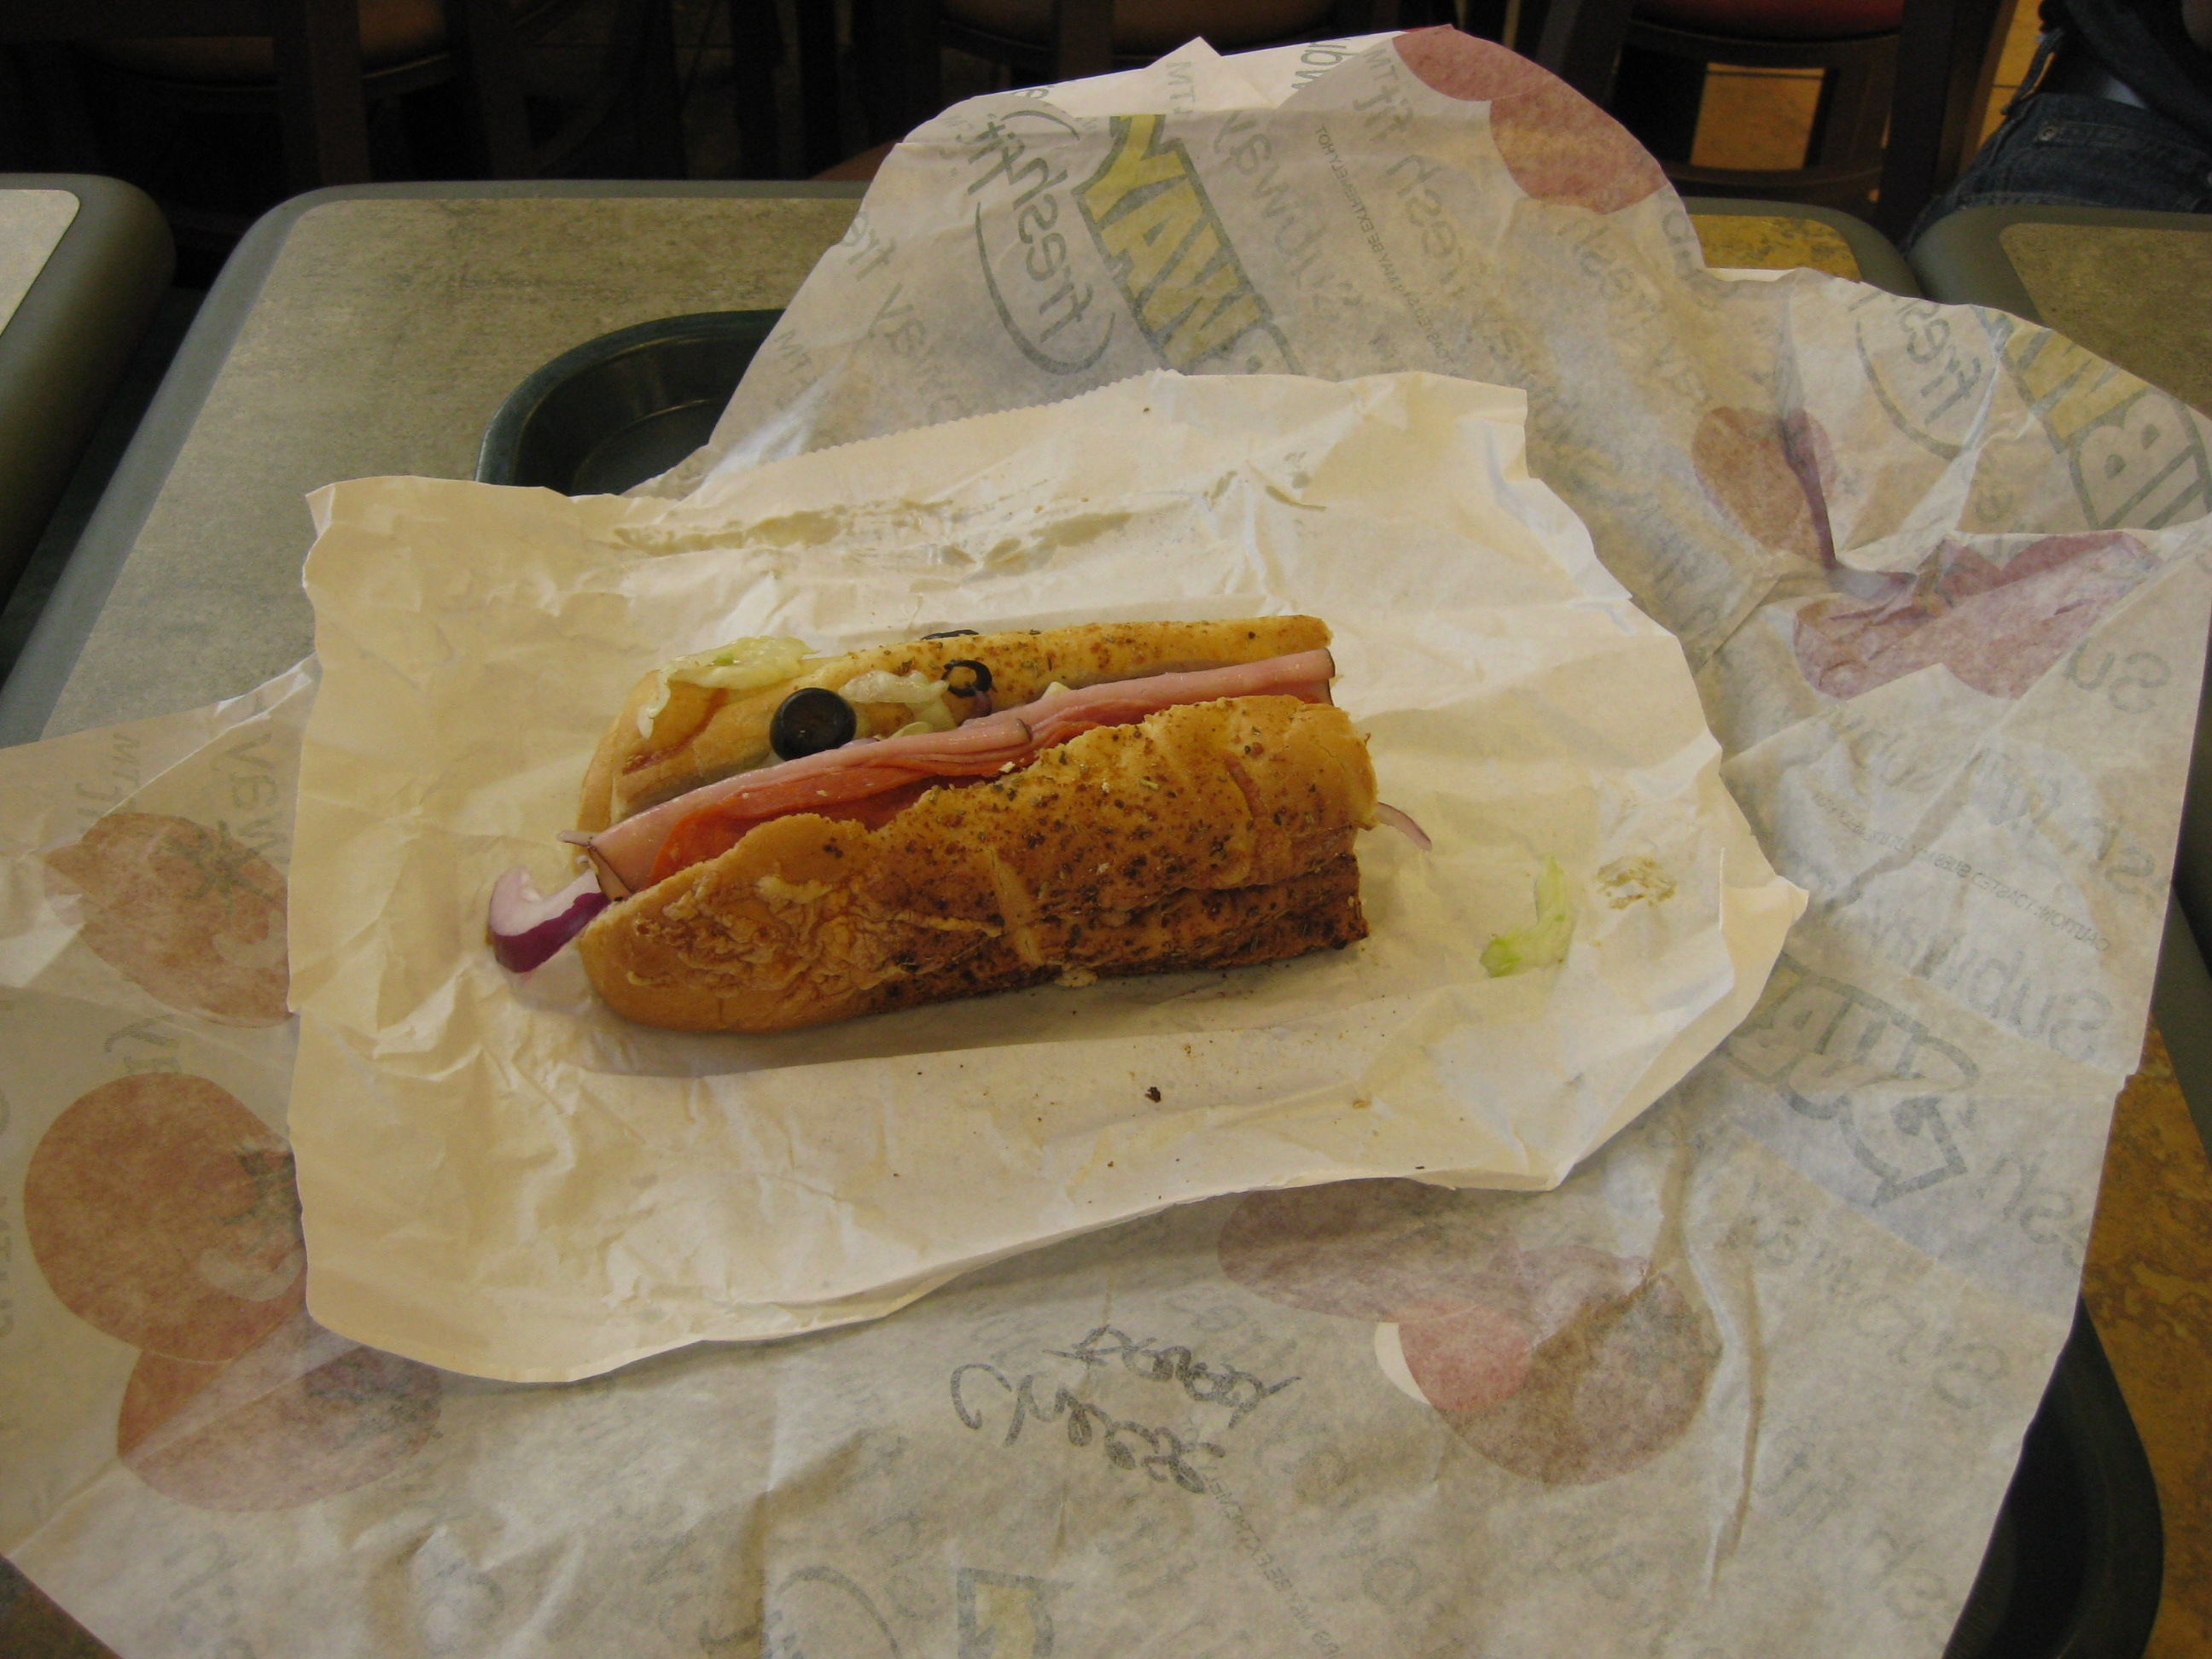sub: (532, 607, 1404, 1044)
